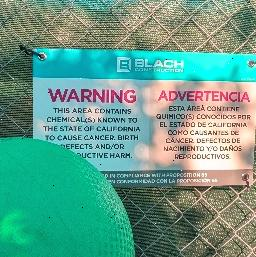algae: (0, 137, 135, 257)
